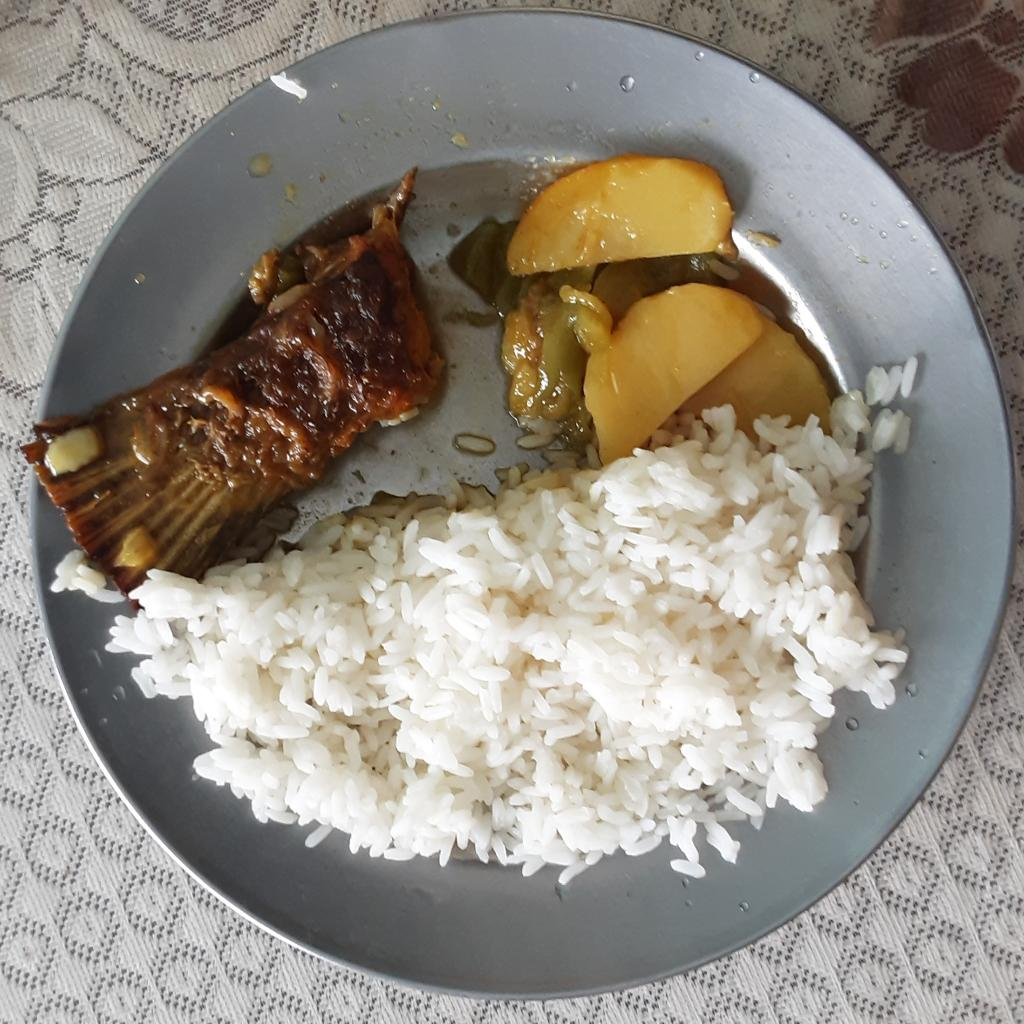dundol: (502, 252, 763, 444)
fish: (22, 177, 444, 580)
potato: (580, 288, 839, 457), (510, 154, 738, 272)
rice: (48, 362, 917, 881)
